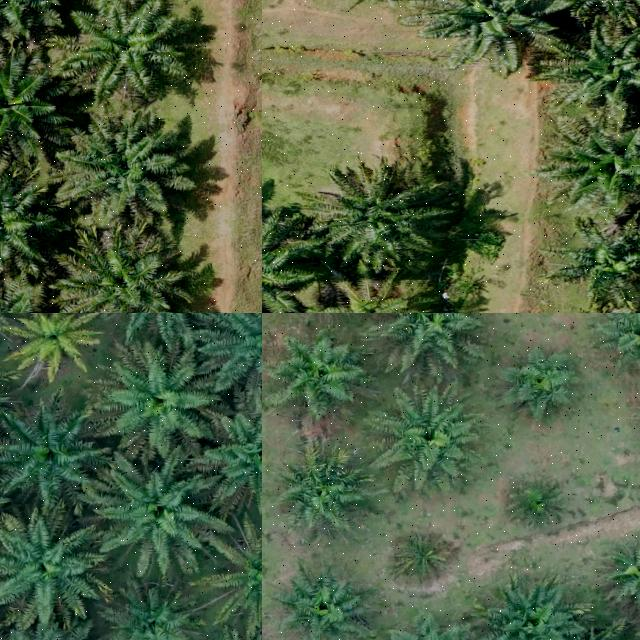Ganoderma: (21, 313, 83, 366), (326, 284, 415, 313)
